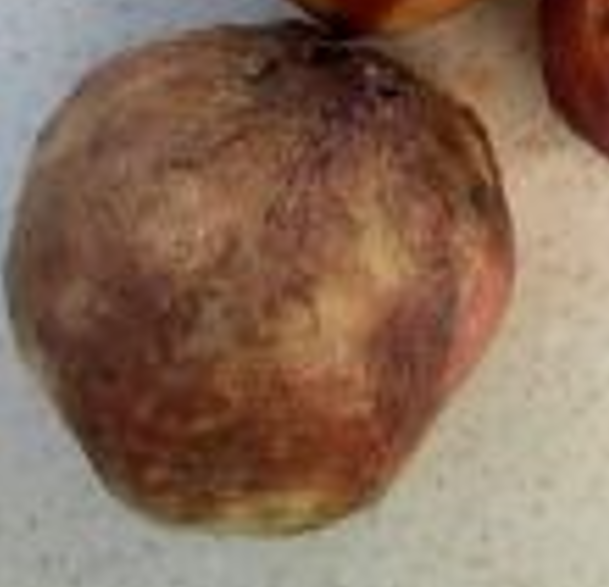guava_C: (5, 23, 517, 541)
